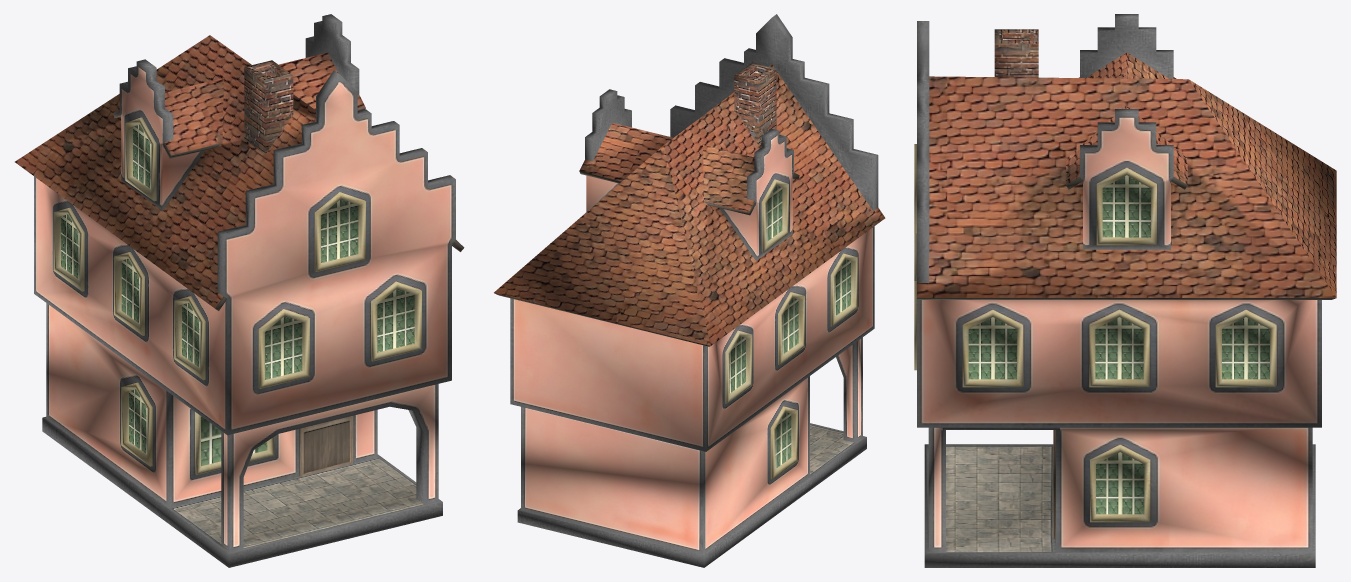
File: merchant_house_1.obj
The picture shows the model from 3 angles, left to right: view 1: azimuth 30°, elevation 25°; view 2: azimuth 150°, elevation 25°; view 3: azimuth 270°, elevation 25°; orthographic projection. The views are drawn at different scales.
Visible parts, largest first — view 1: merchant_house_1; view 2: merchant_house_1; view 3: merchant_house_1.
Boxes of the visible parts, x1,y1,x2,y2 form: merchant_house_1: (15, 14, 464, 567); merchant_house_1: (494, 14, 885, 567); merchant_house_1: (914, 14, 1336, 567).
Size of the model in its own units: 6.01 by 10.83 by 8.42.
1 material, 1 textured.
